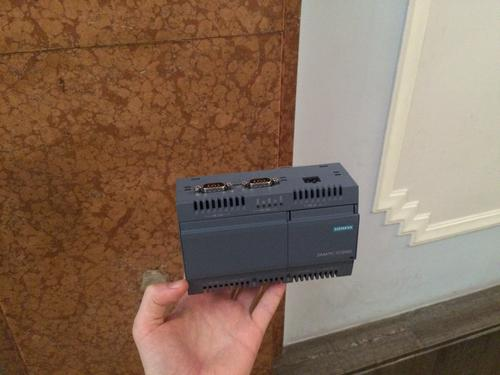iot2000: (174, 161, 360, 295)
